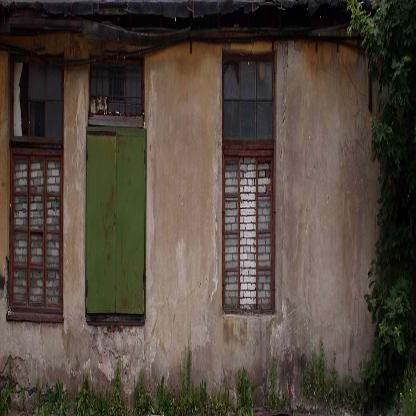Blind: (86, 131, 144, 314)
Building Outline: (0, 1, 416, 415)
Dont: (346, 0, 416, 415)
Facade: (0, 1, 416, 415)
Ground Floor: (0, 1, 416, 415)
Window: (86, 131, 144, 314), (222, 149, 276, 314), (10, 147, 63, 310), (222, 52, 276, 142), (10, 54, 63, 138), (88, 55, 144, 118)
